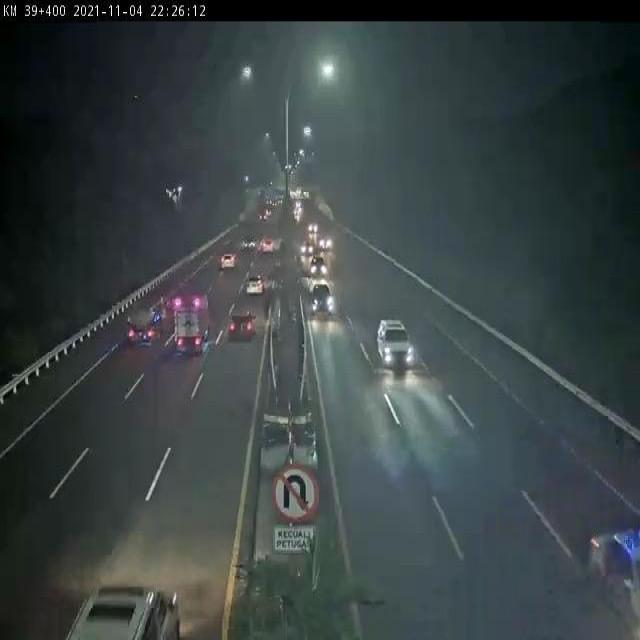car: (62, 560, 182, 636), (553, 520, 640, 600), (361, 298, 422, 371), (221, 314, 256, 354), (308, 272, 336, 313), (243, 275, 263, 301), (216, 255, 240, 273), (306, 256, 328, 273), (261, 240, 277, 253)
truck-l-: (122, 291, 152, 345)
truck-m-: (177, 292, 211, 348)
